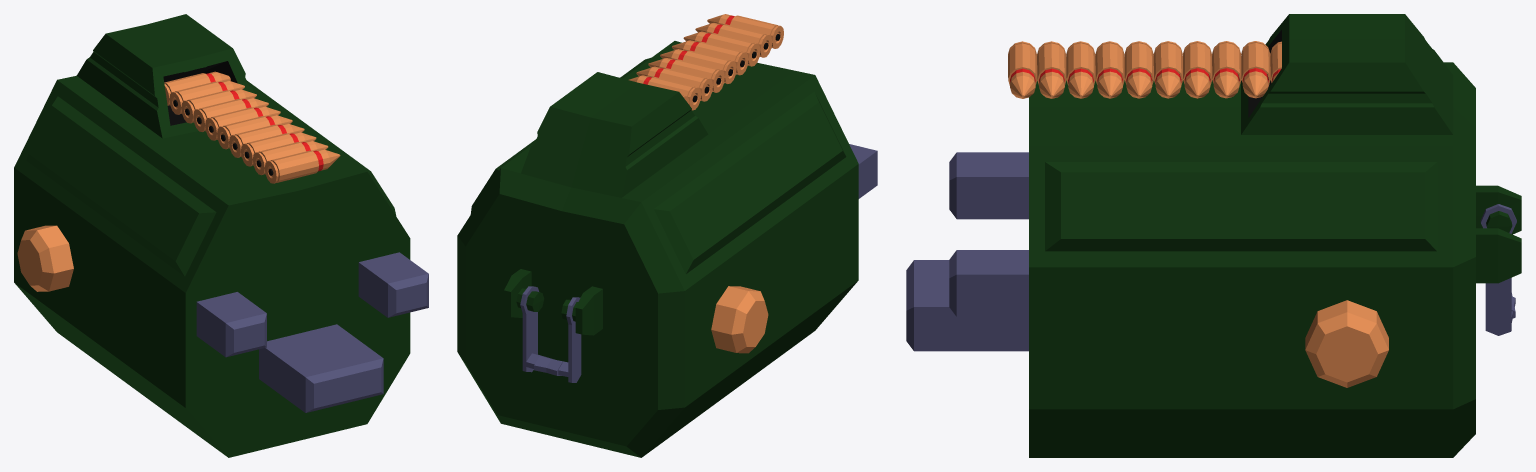
The model's file is _mmo box.fbx.
The picture shows the model from 3 angles, left to right: view 1: azimuth 30°, elevation 25°; view 2: azimuth 150°, elevation 25°; view 3: azimuth 270°, elevation 25°; orthographic projection. The views are drawn at different scales.
Visible parts, largest first — view 1: AmmoBox with bullets; view 2: AmmoBox with bullets; view 3: AmmoBox with bullets.
Part boxes in pixels (x1=…): AmmoBox with bullets: x1=14, y1=14, x2=428, y2=457; AmmoBox with bullets: x1=457, y1=14, x2=877, y2=457; AmmoBox with bullets: x1=906, y1=14, x2=1521, y2=457.
Bounding box in the file's own units: 163 × 170 × 251.
